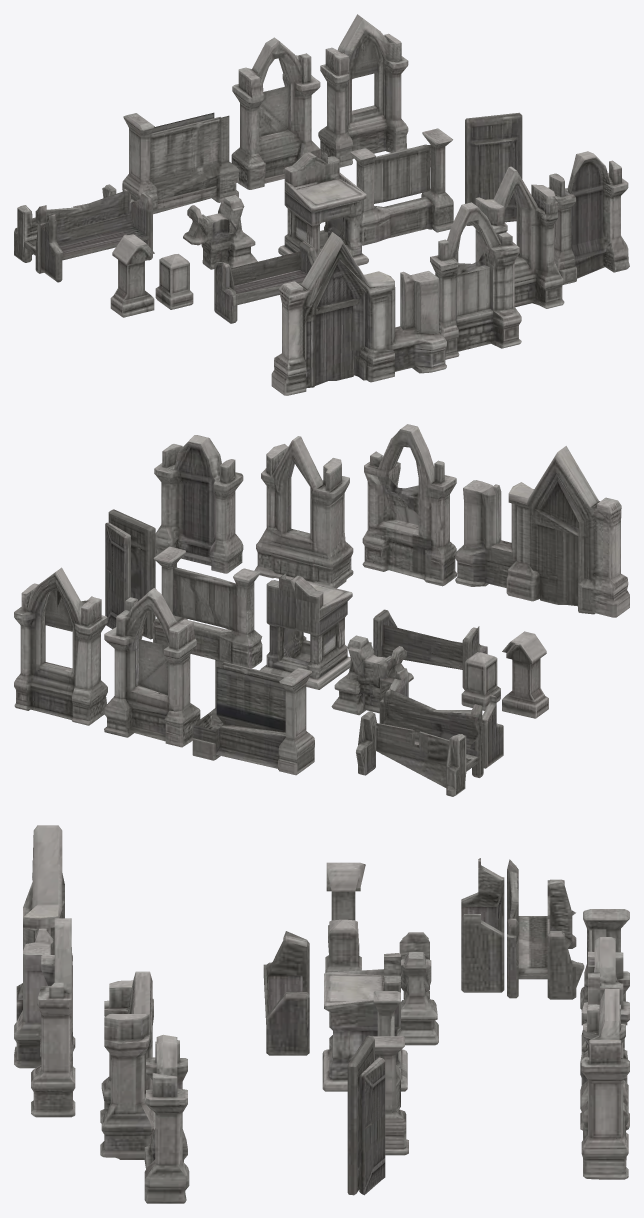
The model's file is ruins_gothic.glb.
3 renders of one model, top to bottom at view 1: azimuth 30°, elevation 25°; view 2: azimuth 150°, elevation 25°; view 3: azimuth 270°, elevation 25°, orthographic. The views are drawn at different scales.
Bounding box in the file's own units: 1.91 × 0.6145 × 1.84.
Materials: 1 (1 with a texture image).
